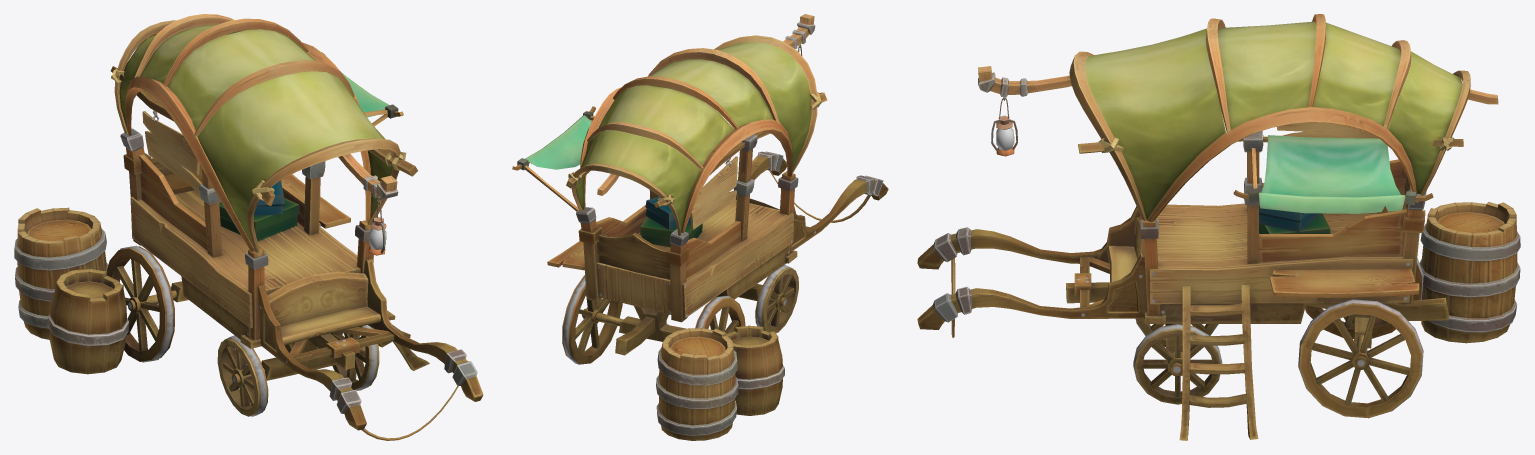
File: CartComp.glb
3 renders of one model, left to right at view 1: azimuth 30°, elevation 25°; view 2: azimuth 150°, elevation 25°; view 3: azimuth 270°, elevation 25°, orthographic. The views are drawn at different scales.
Visible parts, largest first — view 1: Trade_cart; view 2: Trade_cart; view 3: Trade_cart.
Part boxes in pixels (box(x1,y1,x2,y2)): Trade_cart: box(14, 14, 483, 440); Trade_cart: box(512, 14, 888, 440); Trade_cart: box(917, 14, 1520, 440).
Bounding box in the file's own units: 6.14 × 6.75 × 10.47.
Materials: 2 (1 with a texture image).
